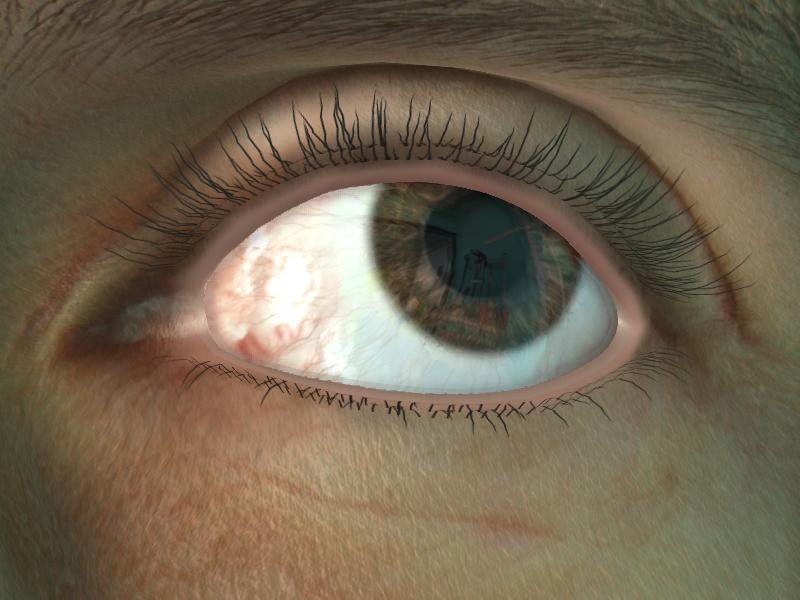eye: (371, 181, 577, 350)
